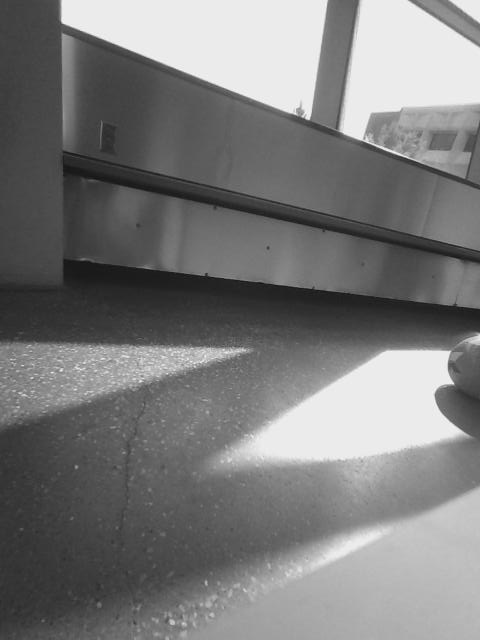ball: (443, 332, 480, 396)
